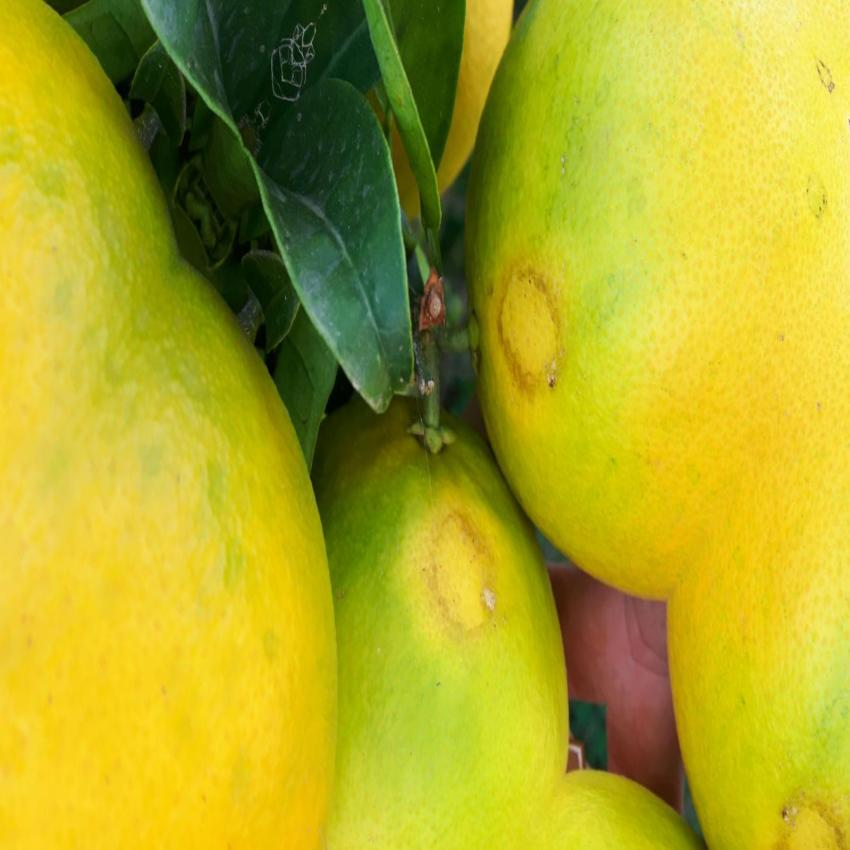Mal estado: (462, 0, 825, 607), (303, 372, 573, 824), (668, 510, 850, 844)
